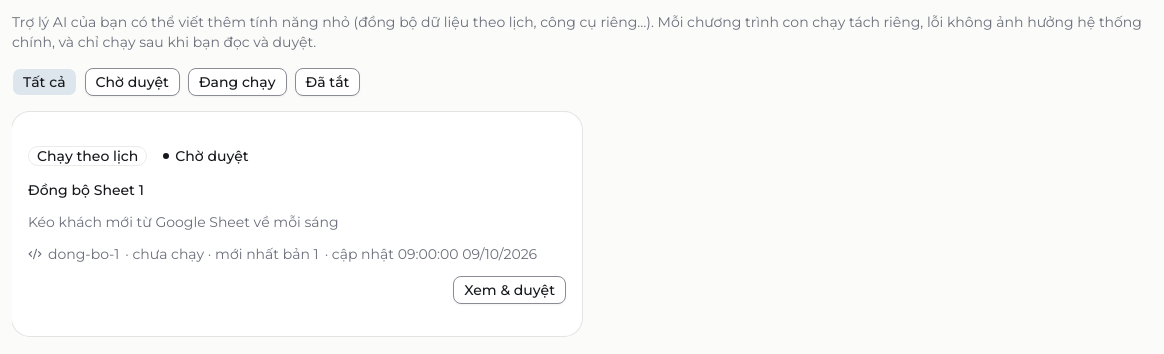
<ExtensionsScreen> › liệt kê, lọc Chờ duyệt / Đang chạy; rỗng ⇒ hướng dẫn nhờ trợ lý AI
This screenshot has width=1164, height=354.
Check: the number of elements with test id "extension-card" is 1, box [12,112,582,336]
Check: the text "Chờ duyệt" is shown, box [175,147,249,165]
What coordinates should you click on to do the following:
click the button "Đang chạy"
I would click on:
 (237, 82)
Its box is [188,68,286,96].
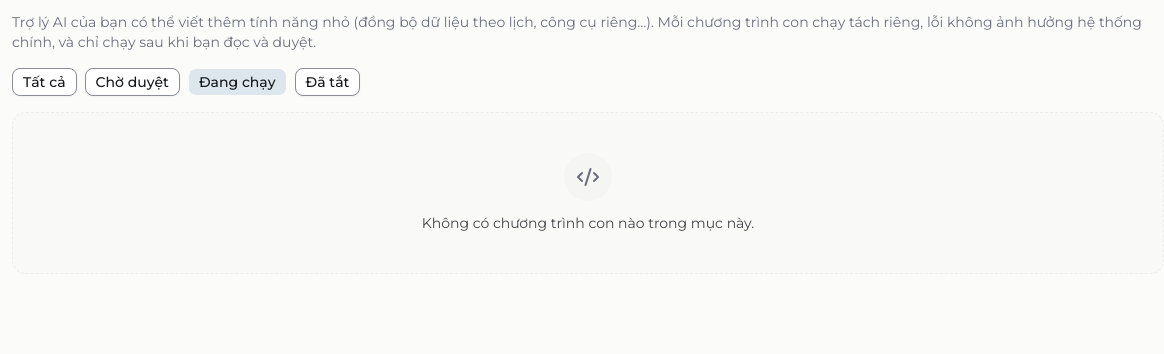
Check: the text "Không có chương trình con nào trong mục này." is shown, box [422,213,754,233]
